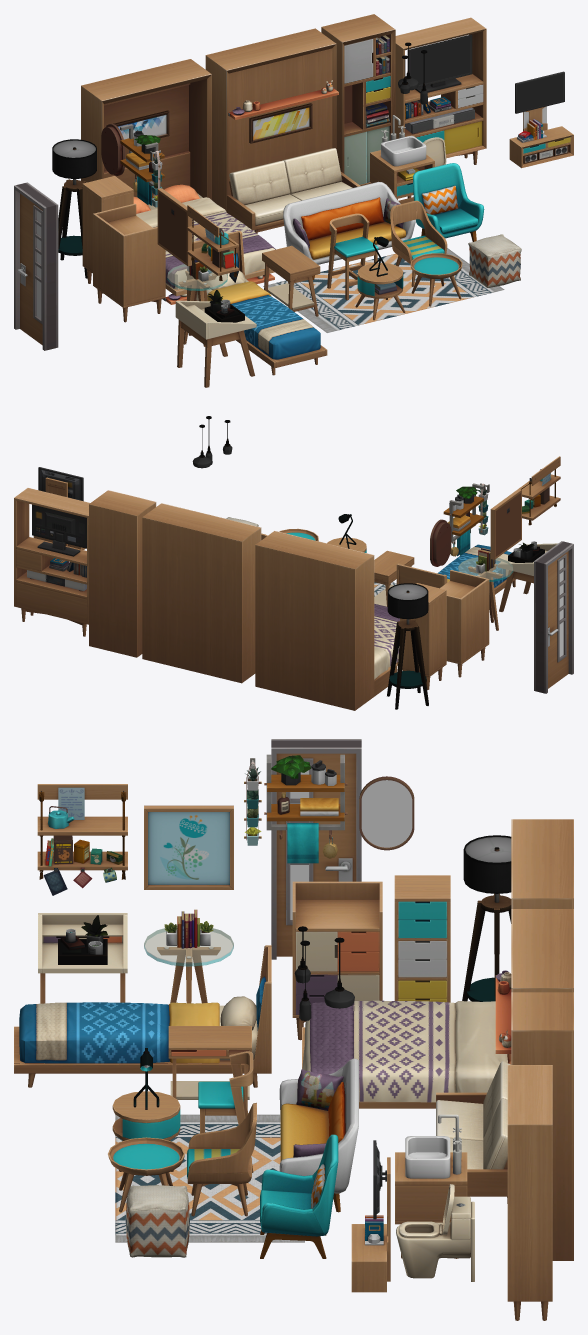
The model's file is tinylivingpack.glb.
3 renders of one model, top to bottom at view 1: azimuth 30°, elevation 25°; view 2: azimuth 150°, elevation 25°; view 3: azimuth 270°, elevation 25°, orthographic. The views are drawn at different scales.
Visible parts, largest first — view 1: s4studio_mesh_1_3, TinyLiving_MurphyBed_2, TinyLiving_MediaMarathoner_8, TinyLiving_PowerTowerBookcase_47, TinyLiving_ContemporaryCarpet_40, TinyLiving_StubbyCubbyDresser_38, TinyLiving_LovelyLoveseat_12, TinyLiving_Space-SavingSingle_13, TinyLiving_MurphyLoveSeat_4, s4studio_mesh_1.001_15, TinyLiving_LovelyArmchair_33, s4studio_mesh_4_1 (+28 smaller); view 2: TinyLiving_MurphyBed_2, TinyLiving_MurphyLoveSeat_4, TinyLiving_MediaMarathoner_8, TinyLiving_PowerTowerBookcase_47, TinyLiving_StubbyCubbyDresser_38, s4studio_mesh_1.001_15, TinyLiving_LampWithoutStorage_20, TinyLiving_PowerTowerDresser_24, TinyLiving_Space-SavingSingle_13, TinyLiving_SimpleandCleanArt_39, TinyLiving_TieredShelf_29, TinyLiving_OpenShelf_31 (+13 smaller); view 3: s4studio_mesh_4_1, TinyLiving_Space-SavingSingle_13, TinyLiving_MediaMarathoner_8, TinyLiving_StubbyCubbyDresser_38, TinyLiving_PowerTowerBookcase_47, TinyLiving_ContemporaryCarpet_40, TinyLiving_JustALittlePeek_18, TinyLiving_LovelyLoveseat_12, TinyLiving_SimpleandCleanArt_39, s4studio_mesh_1_3, TinyLiving_PowerTowerDresser_24, TinyLiving_OpenShelf_31 (+22 smaller).
Boxes of the visible parts, x1,y1,x2,y2 form: s4studio_mesh_1_3: (227,48,360,233); TinyLiving_MurphyBed_2: (81,59,211,199); TinyLiving_MediaMarathoner_8: (395,17,486,164); TinyLiving_PowerTowerBookcase_47: (321,14,395,185); TinyLiving_ContemporaryCarpet_40: (263,248,504,332); TinyLiving_StubbyCubbyDresser_38: (93,203,165,322); TinyLiving_LovelyLoveseat_12: (283,181,415,279); TinyLiving_Space-SavingSingle_13: (187,230,327,375); TinyLiving_MurphyLoveSeat_4: (205,28,336,213); s4studio_mesh_1.001_15: (14,184,51,350); TinyLiving_LovelyArmchair_33: (413,163,484,241); s4studio_mesh_4_1: (133,184,275,289); TinyLiving_MurphyBed_2: (255,531,374,710); TinyLiving_MurphyLoveSeat_4: (142,503,261,683); TinyLiving_MediaMarathoner_8: (14,488,89,636); TinyLiving_PowerTowerBookcase_47: (89,490,156,657); TinyLiving_StubbyCubbyDresser_38: (440,570,489,677); s4studio_mesh_1.001_15: (540,542,573,693); TinyLiving_LampWithoutStorage_20: (387,583,428,709); TinyLiving_PowerTowerDresser_24: (400,583,446,689); TinyLiving_Space-SavingSingle_13: (396,544,516,594); TinyLiving_SimpleandCleanArt_39: (490,489,521,559); TinyLiving_TieredShelf_29: (443,483,484,556); TinyLiving_OpenShelf_31: (518,456,560,520); s4studio_mesh_4_1: (302,1000,511,1102); TinyLiving_Space-SavingSingle_13: (14,945,271,1087); TinyLiving_MediaMarathoner_8: (507,1065,552,1320); TinyLiving_StubbyCubbyDresser_38: (292,881,382,1040); TinyLiving_PowerTowerBookcase_47: (511,992,573,1260); TinyLiving_ContemporaryCarpet_40: (115,1114,304,1242); TinyLiving_JustALittlePeek_18: (271,744,361,959); TinyLiving_LovelyLoveseat_12: (279,1058,358,1212); TinyLiving_SimpleandCleanArt_39: (144,805,233,889); s4studio_mesh_1_3: (436,970,511,1203); TinyLiving_PowerTowerDresser_24: (394,875,450,1002); TinyLiving_OpenShelf_31: (37,784,127,895).
Size of the model in its own units: 8.95 by 3 by 5.27.
Materials: 41 (37 with a texture image).
